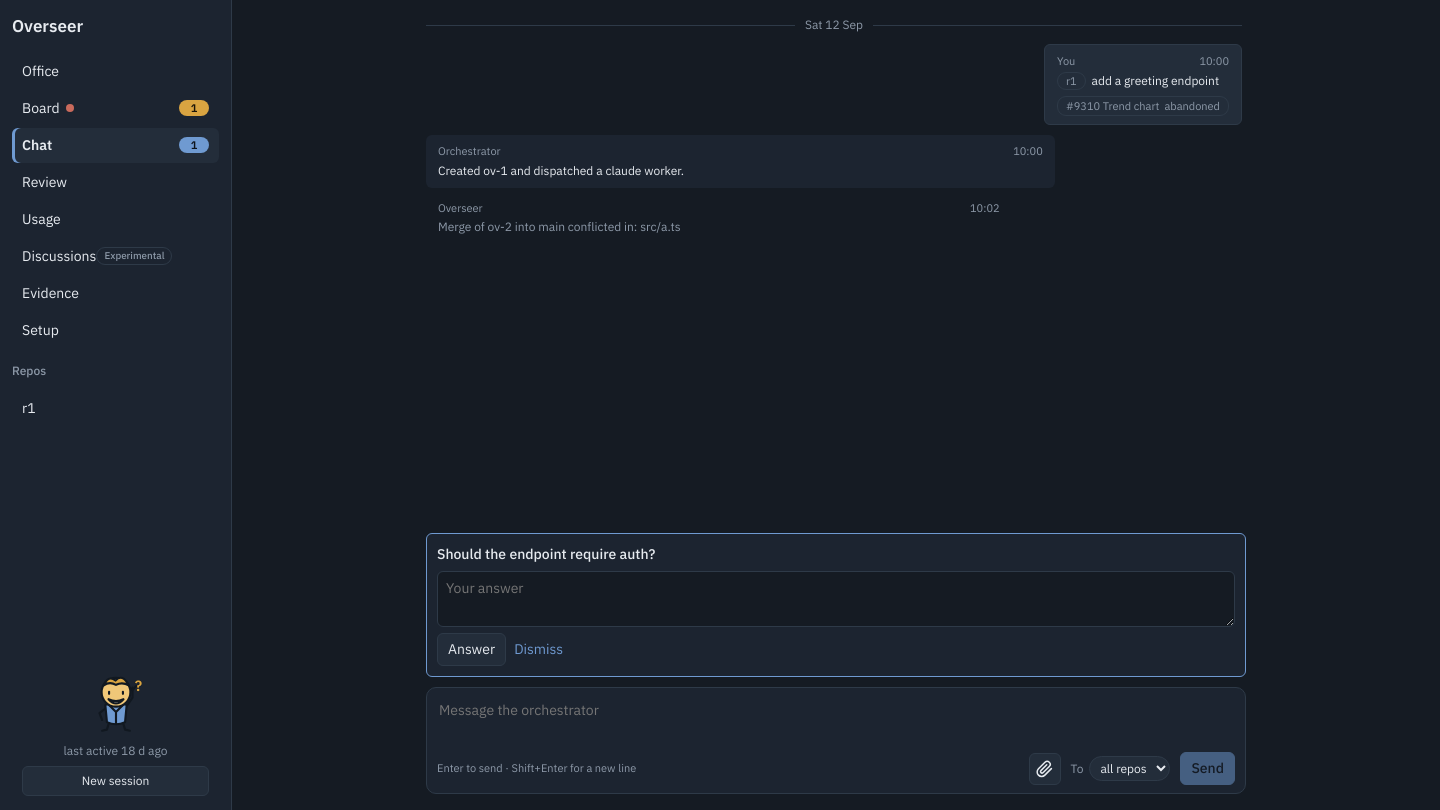
Test: App › opens a abandoned Chat outcome in place
Click the button "#9310 Trend chart abandoned" at (1143, 106), box 1057,96 -> 1229,116
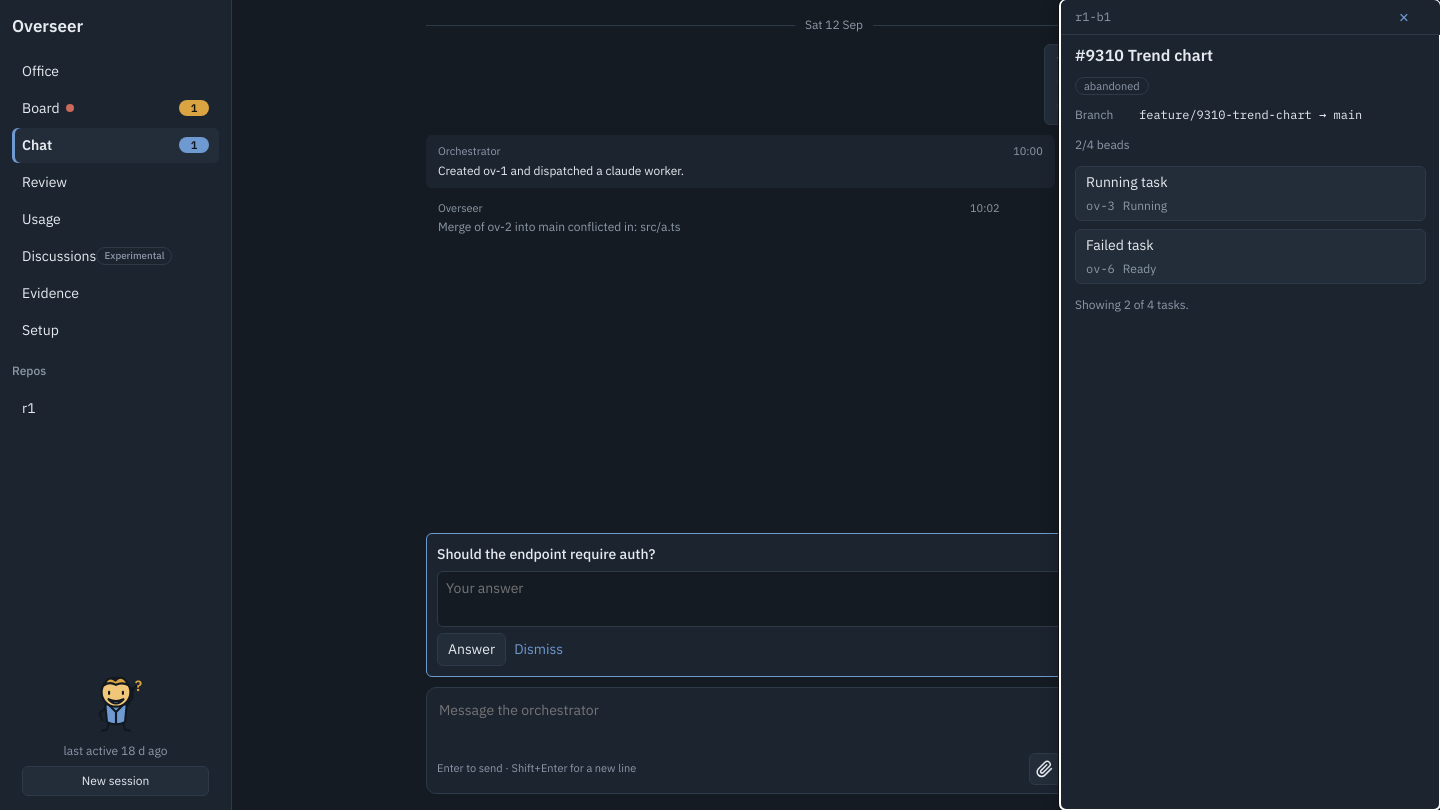
expect the element named "Batch details for r1-b1" is shown: met, box 1060,0 -> 1439,809
